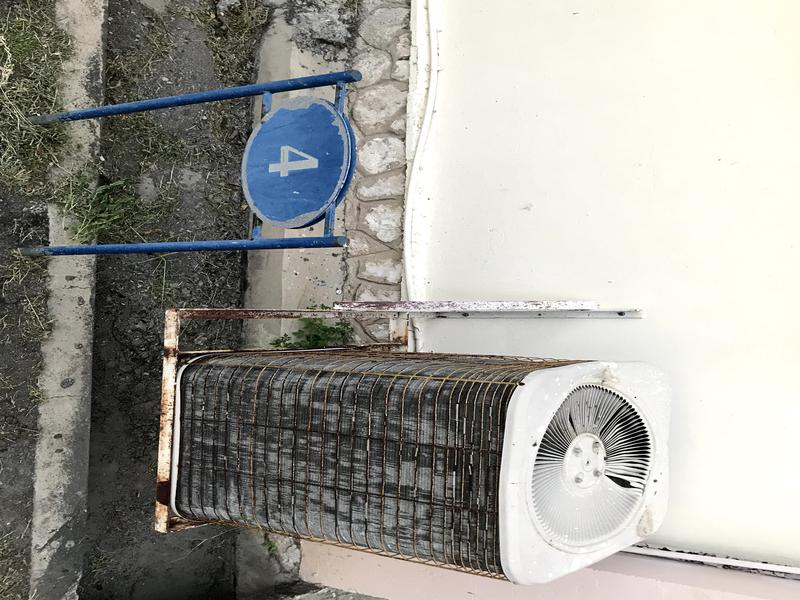18.0053530_-76.7490375_signatentrancetoscitech: (24, 59, 380, 282)
